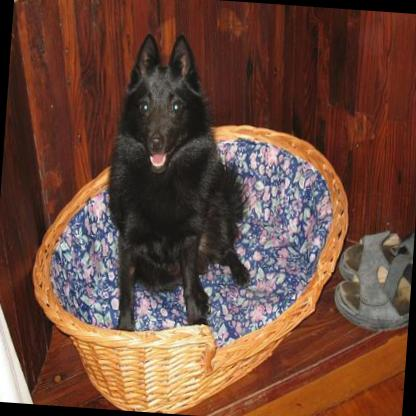schipperke: (96, 29, 266, 339)
